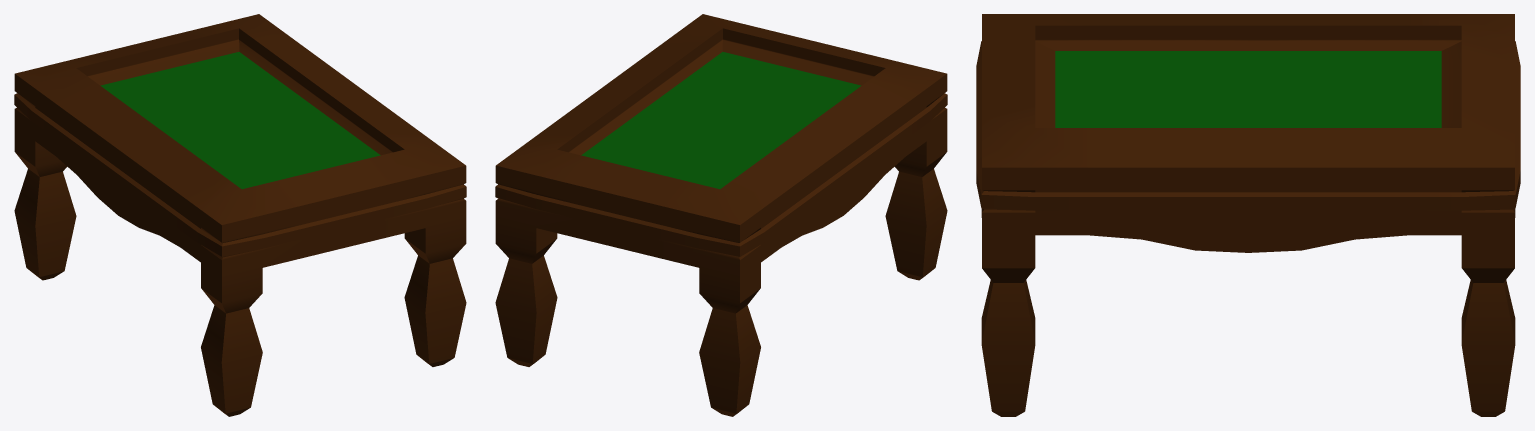
The model's file is pool table.fbx.
3 views of the same model, side by side, from view 1: azimuth 30°, elevation 25°; view 2: azimuth 150°, elevation 25°; view 3: azimuth 270°, elevation 25° (orthographic). The views are drawn at different scales.
Visible parts, largest first — view 1: pool_table; view 2: pool_table; view 3: pool_table.
Part boxes in pixels (bbox=[...]): pool_table: bbox=[14, 14, 466, 416]; pool_table: bbox=[495, 14, 947, 416]; pool_table: bbox=[976, 14, 1520, 416].
Bounding box in the file's own units: 8.57 × 6.88 × 12.46.
